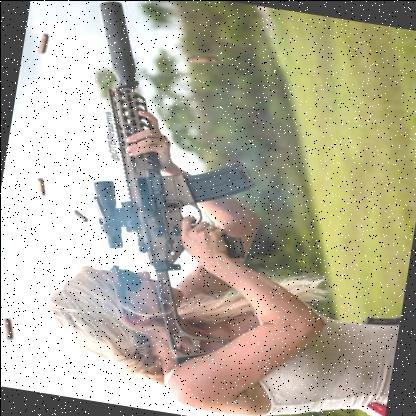rifle: (16, 0, 294, 376)
